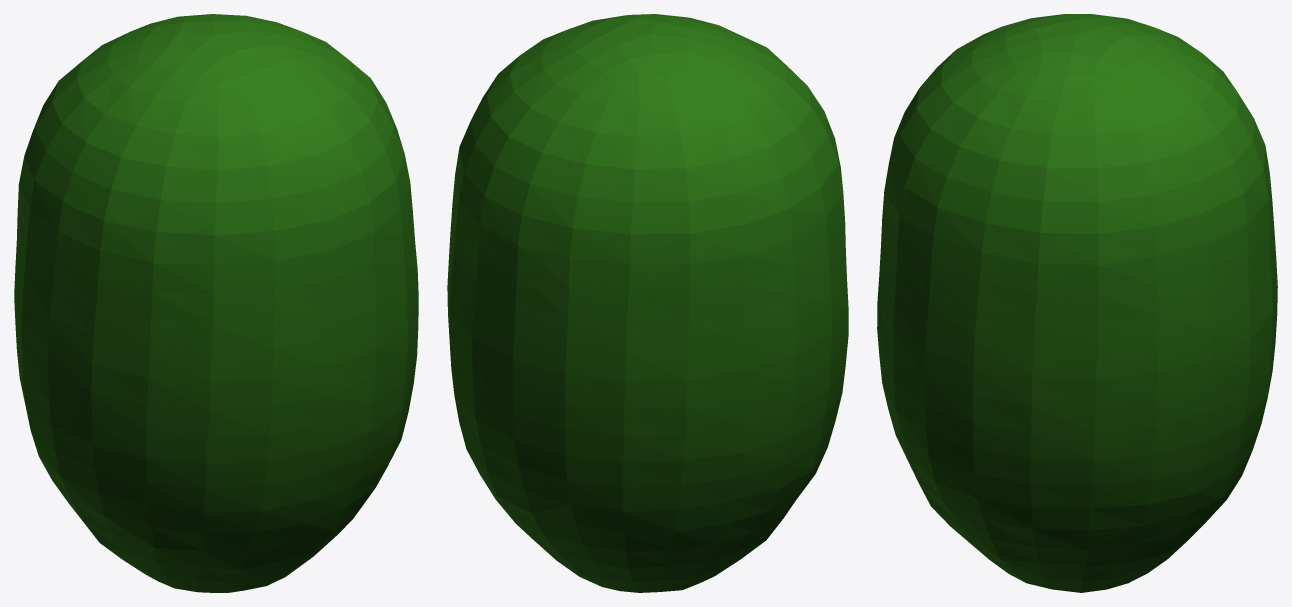
The model's file is Prefab_Foliage_Bush_Plume.glb.
3 views of the same model, side by side, from view 1: azimuth 30°, elevation 25°; view 2: azimuth 150°, elevation 25°; view 3: azimuth 270°, elevation 25° (orthographic).
Visible parts, largest first — view 1: Bush_Plume; view 2: Bush_Plume; view 3: Bush_Plume.
Part boxes in pixels (left/top/right/bottom): Bush_Plume: left=14, top=14, right=418, bottom=592; Bush_Plume: left=447, top=14, right=848, bottom=592; Bush_Plume: left=877, top=14, right=1277, bottom=592.
Bounding box in the file's own units: 0.6096 × 0.9144 × 0.6096.
Materials: 1 (1 with a texture image).
